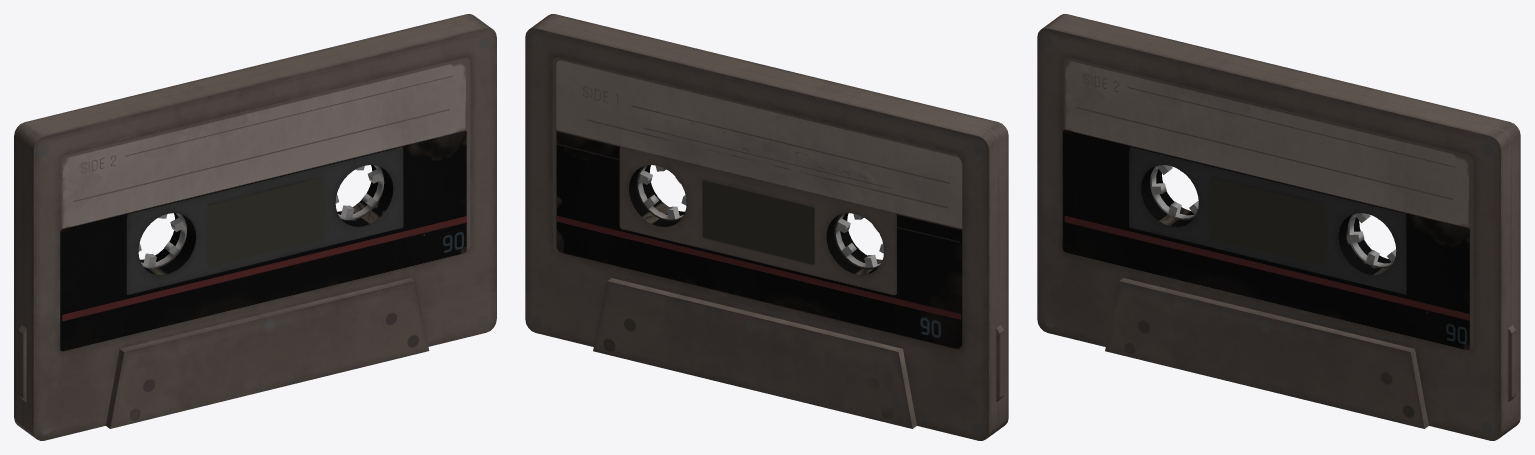
Rendered from cassetteTape.glb.
3 renders of one model, left to right at view 1: azimuth 30°, elevation 25°; view 2: azimuth 150°, elevation 25°; view 3: azimuth 330°, elevation 25°, orthographic.
Parts seen in each view (by area): view 1: Cassette_low.001_Cube.003; view 2: Cassette_low.001_Cube.003; view 3: Cassette_low.001_Cube.003.
Part boxes in pixels (left/top/right/bottom): Cassette_low.001_Cube.003: left=14, top=14, right=496, bottom=440; Cassette_low.001_Cube.003: left=525, top=14, right=1008, bottom=440; Cassette_low.001_Cube.003: left=1037, top=14, right=1520, bottom=440.
Bounding box in the file's own units: 7.26 × 4.49 × 0.765.
1 material, 1 textured.
